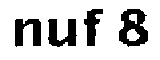8: (117, 5, 151, 51)
f: (82, 5, 109, 50)
n: (12, 16, 43, 51)
u: (46, 18, 79, 52)
